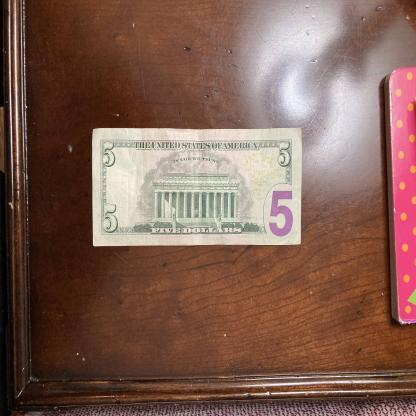five-back: (92, 128, 302, 246)
